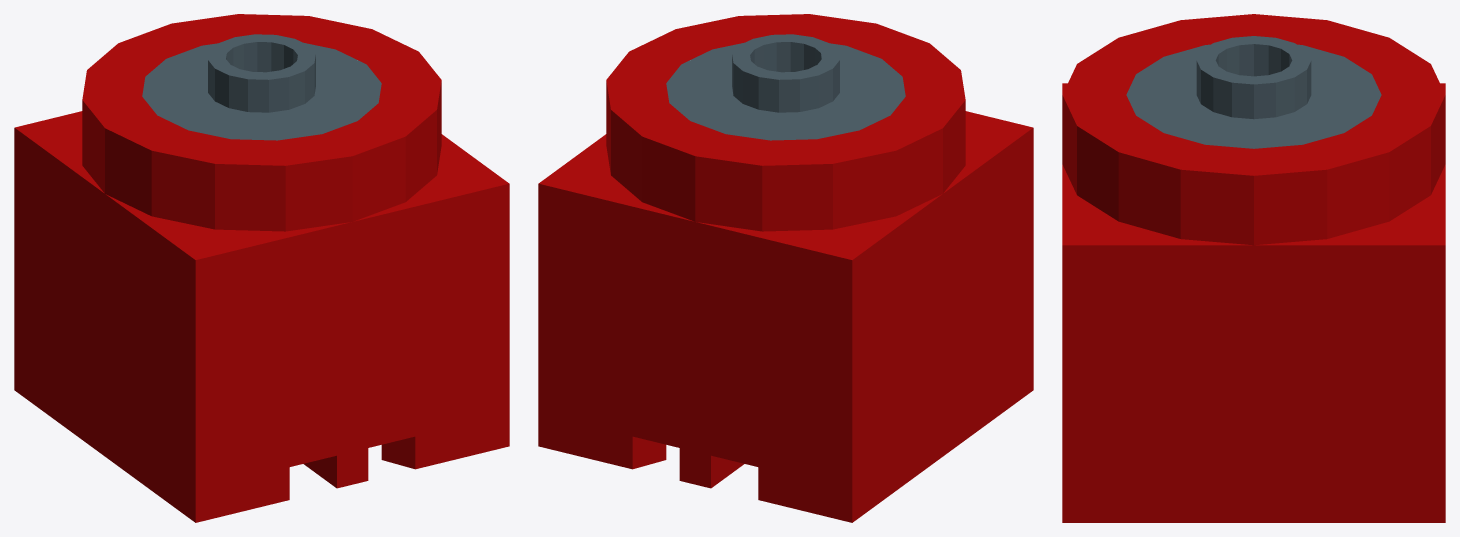
The picture shows the model from 3 angles, left to right: view 1: azimuth 30°, elevation 25°; view 2: azimuth 150°, elevation 25°; view 3: azimuth 270°, elevation 25°; orthographic projection. The views are drawn at different scales.
Parts seen in each view (by area): view 1: world; view 2: world; view 3: world.
Part boxes in pixels (x1=…): world: x1=14, y1=14, x2=509, y2=522; world: x1=538, y1=14, x2=1033, y2=522; world: x1=1062, y1=14, x2=1445, y2=522.
Size of the model in its own units: 0.016 by 0.0176 by 0.016.
